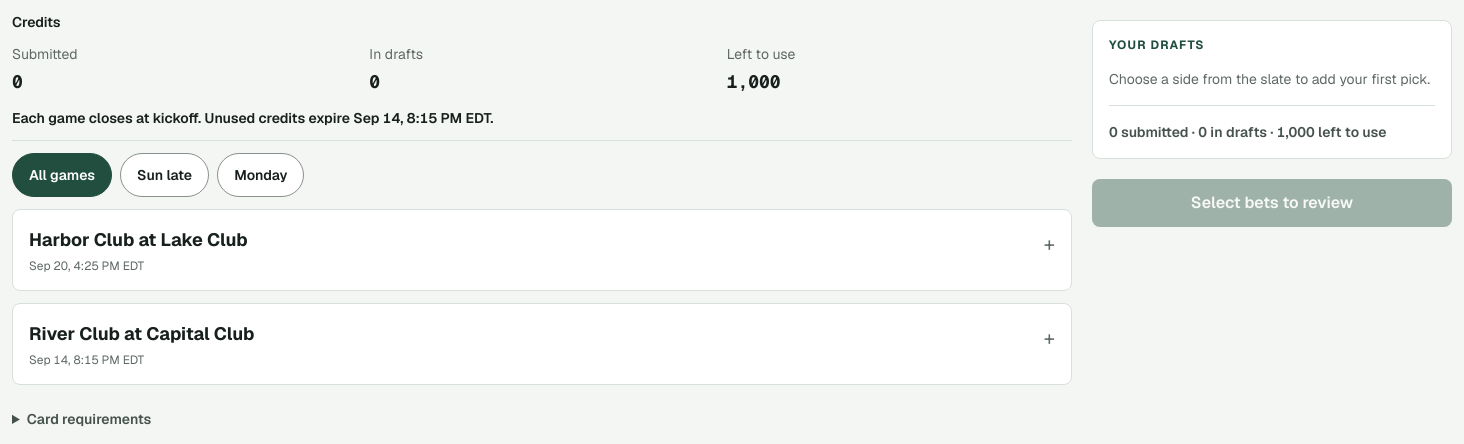
Scenario: rolling member submission flow › offers Sun late only when that window is in the slate
Click the button "Sun late": (165,175) [120,153,209,197]
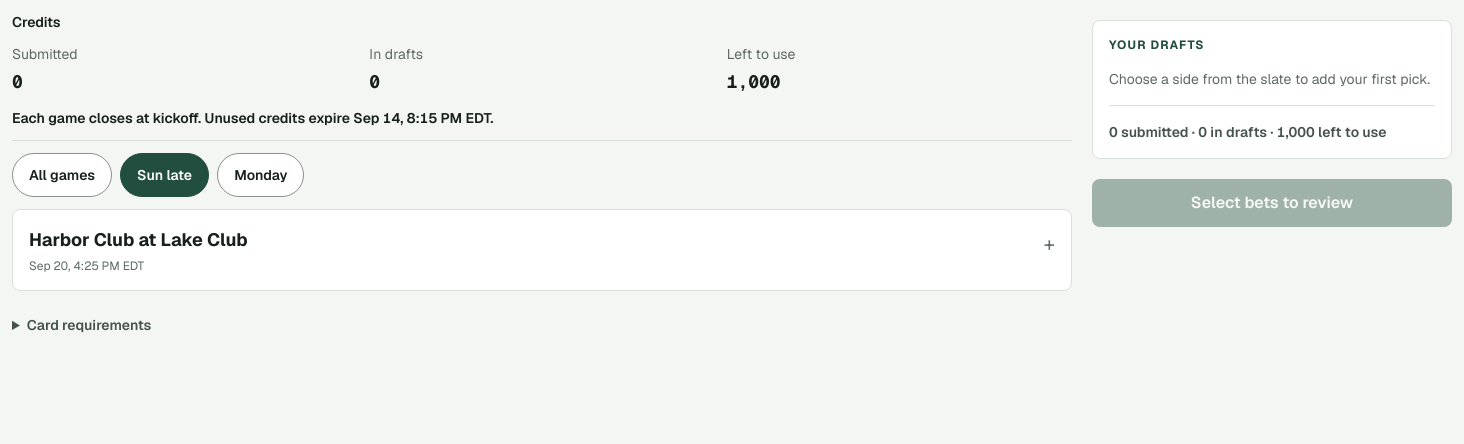
Expected: the element "Harbor Club at Lake Club" is shown, [12,209,1072,291]
Expected: the heading "River Club at Capital Club" is gone
